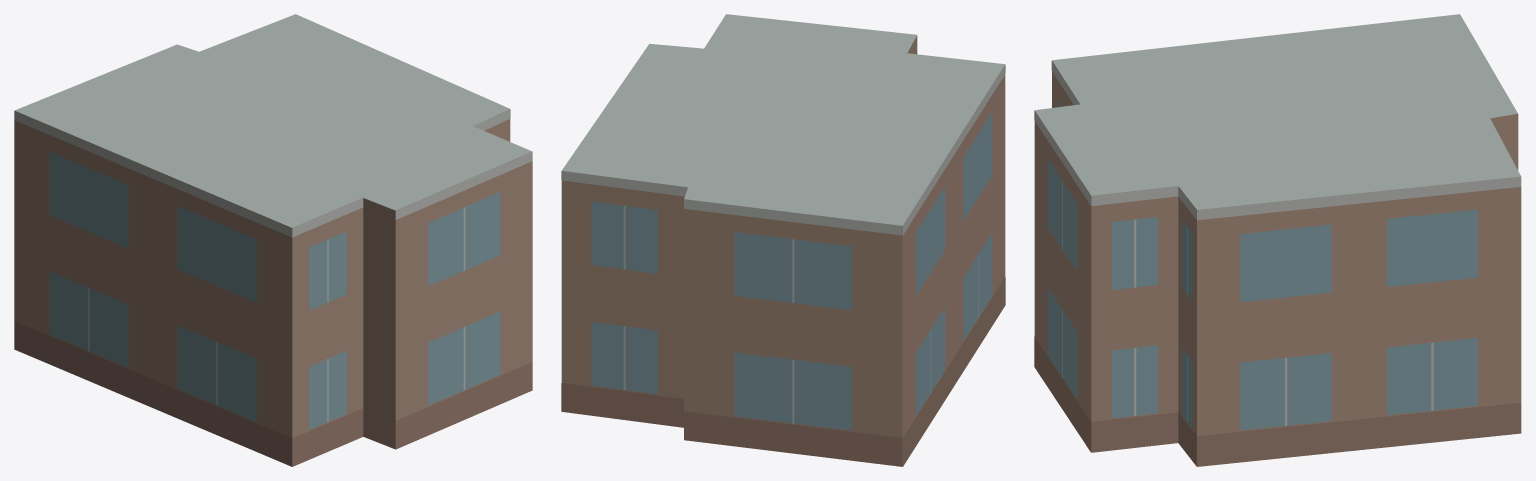
The model's file is survey-upis-32602086.glb.
3 renders of one model, left to right at view 1: azimuth 30°, elevation 25°; view 2: azimuth 150°, elevation 25°; view 3: azimuth 270°, elevation 25°, orthographic. The views are drawn at different scales.
Parts seen in each view (by area): view 1: survey-upis-32602086.tmp; view 2: survey-upis-32602086.tmp; view 3: survey-upis-32602086.tmp.
Part boxes in pixels (x1,y1,x2,y2): survey-upis-32602086.tmp: (14, 14, 532, 466); survey-upis-32602086.tmp: (561, 14, 1005, 466); survey-upis-32602086.tmp: (1034, 14, 1521, 466).
Size of the model in its own units: 10 by 6.1 by 10.49.
